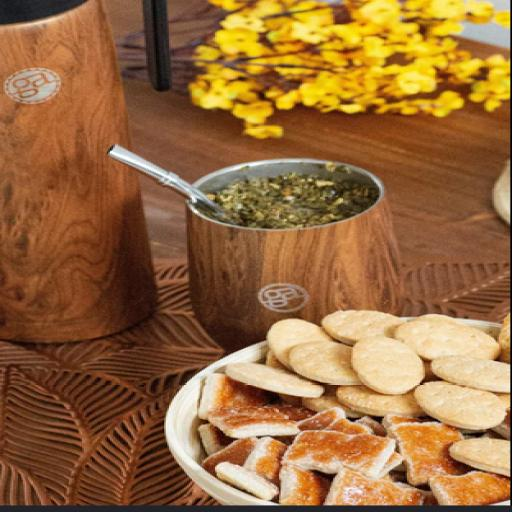bolleria: (201, 311, 510, 505)
mate: (182, 157, 422, 326)
